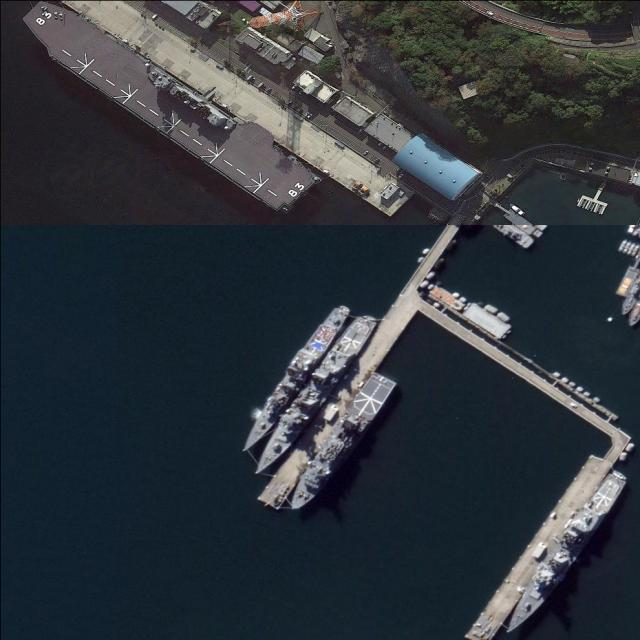Destroyer: (23, 1, 314, 217), (246, 307, 378, 484), (495, 470, 628, 638), (236, 303, 350, 456)
Dock: (259, 298, 417, 513)
Landing: (286, 367, 398, 519)
